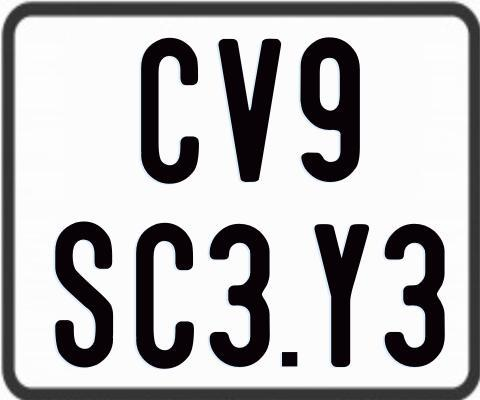3: (385, 224, 448, 373), (210, 221, 272, 364)
9: (300, 34, 361, 179)
C: (135, 223, 196, 372), (141, 37, 200, 188)
S: (53, 218, 116, 364)
V: (218, 36, 281, 184)
Y: (311, 223, 366, 366)
